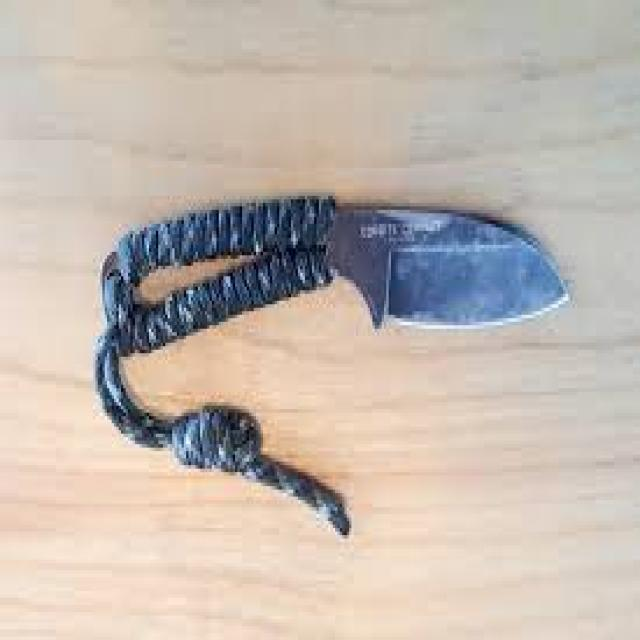knives: (208, 96, 616, 428)
